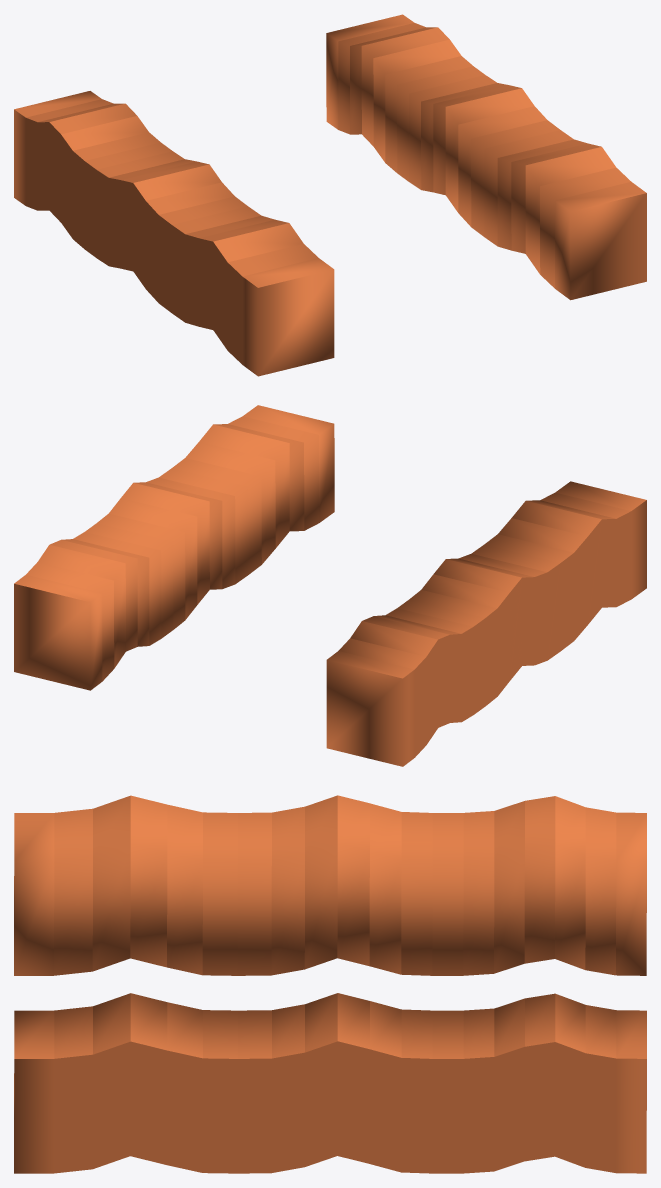
Rendered from bumyStraightSand.fbx.
The picture shows the model from 3 angles, top to bottom: view 1: azimuth 30°, elevation 25°; view 2: azimuth 150°, elevation 25°; view 3: azimuth 270°, elevation 25°; orthographic projection. The views are drawn at different scales.
Parts seen in each view (by area): view 1: ModularTrackBumpyStraight.002, ModularTrackBumpyStraight.001; view 2: ModularTrackBumpyStraight.002, ModularTrackBumpyStraight.001; view 3: ModularTrackBumpyStraight.002, ModularTrackBumpyStraight.001.
Part boxes in pixels (box(x1,y1,x2,y2)): ModularTrackBumpyStraight.002: box(326, 14, 646, 300); ModularTrackBumpyStraight.001: box(14, 91, 334, 376); ModularTrackBumpyStraight.002: box(14, 405, 334, 690); ModularTrackBumpyStraight.001: box(326, 481, 646, 766); ModularTrackBumpyStraight.002: box(14, 993, 646, 1173); ModularTrackBumpyStraight.001: box(14, 795, 646, 975).
Bounding box in the file's own units: 920 × 231 × 1001.
